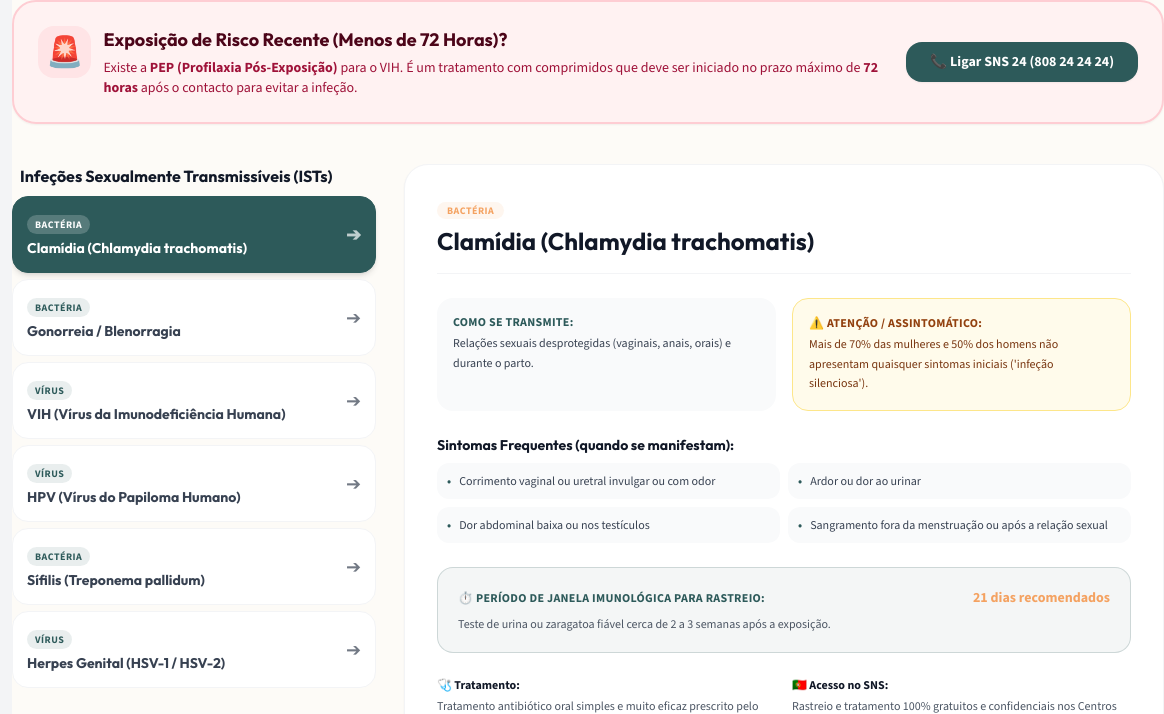
Test: StiTestingGuideTool › switches STI when clicking on another in the list
This screenshot has width=1164, height=714.
Click the button "Bactéria Gonorreia / Blenorragia ➔". click: (59, 308)
box: [12, 279, 376, 356]
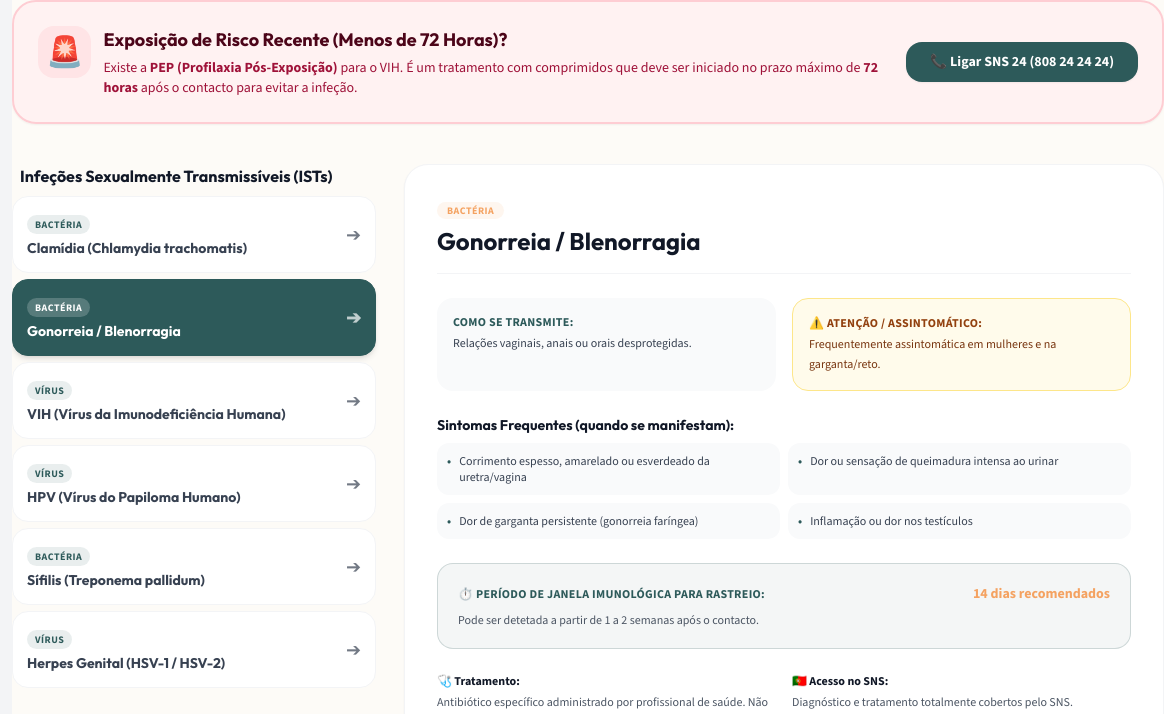
expect the 2nd text "Bactéria" is shown: met, box [27, 215, 90, 234]
expect the 1st heading "Gonorreia / Blenorragia" is shown: met, box [437, 225, 701, 257]
